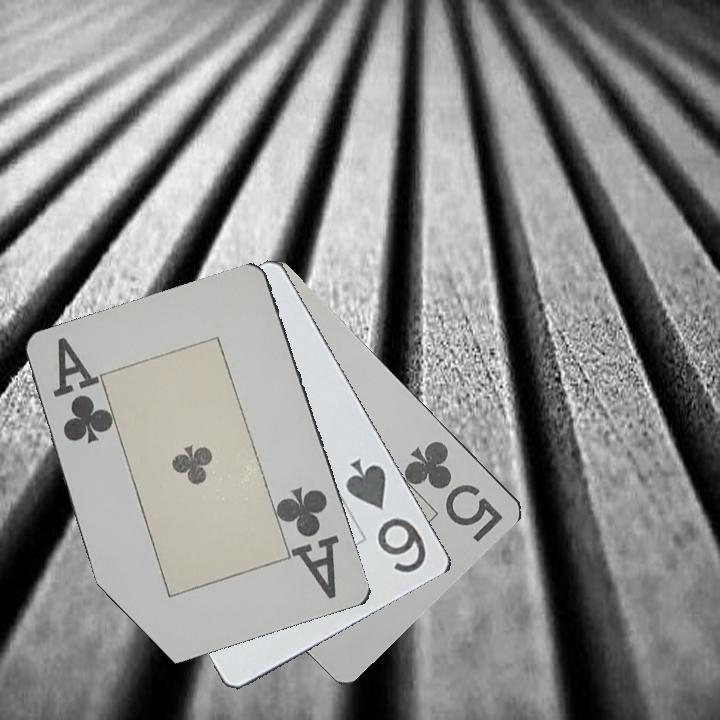5c: (402, 437, 507, 546)
6s: (342, 454, 430, 576)
Ac: (276, 483, 343, 603), (50, 333, 113, 447)
